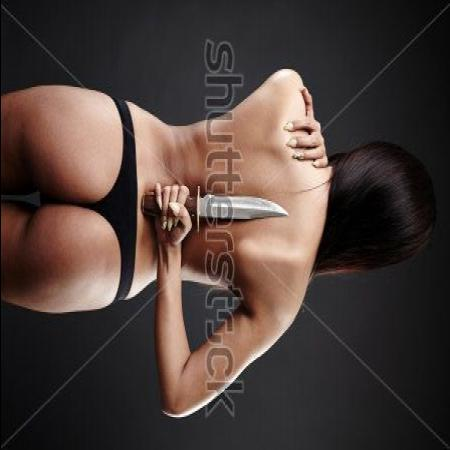long weapon: (158, 178, 298, 238)
